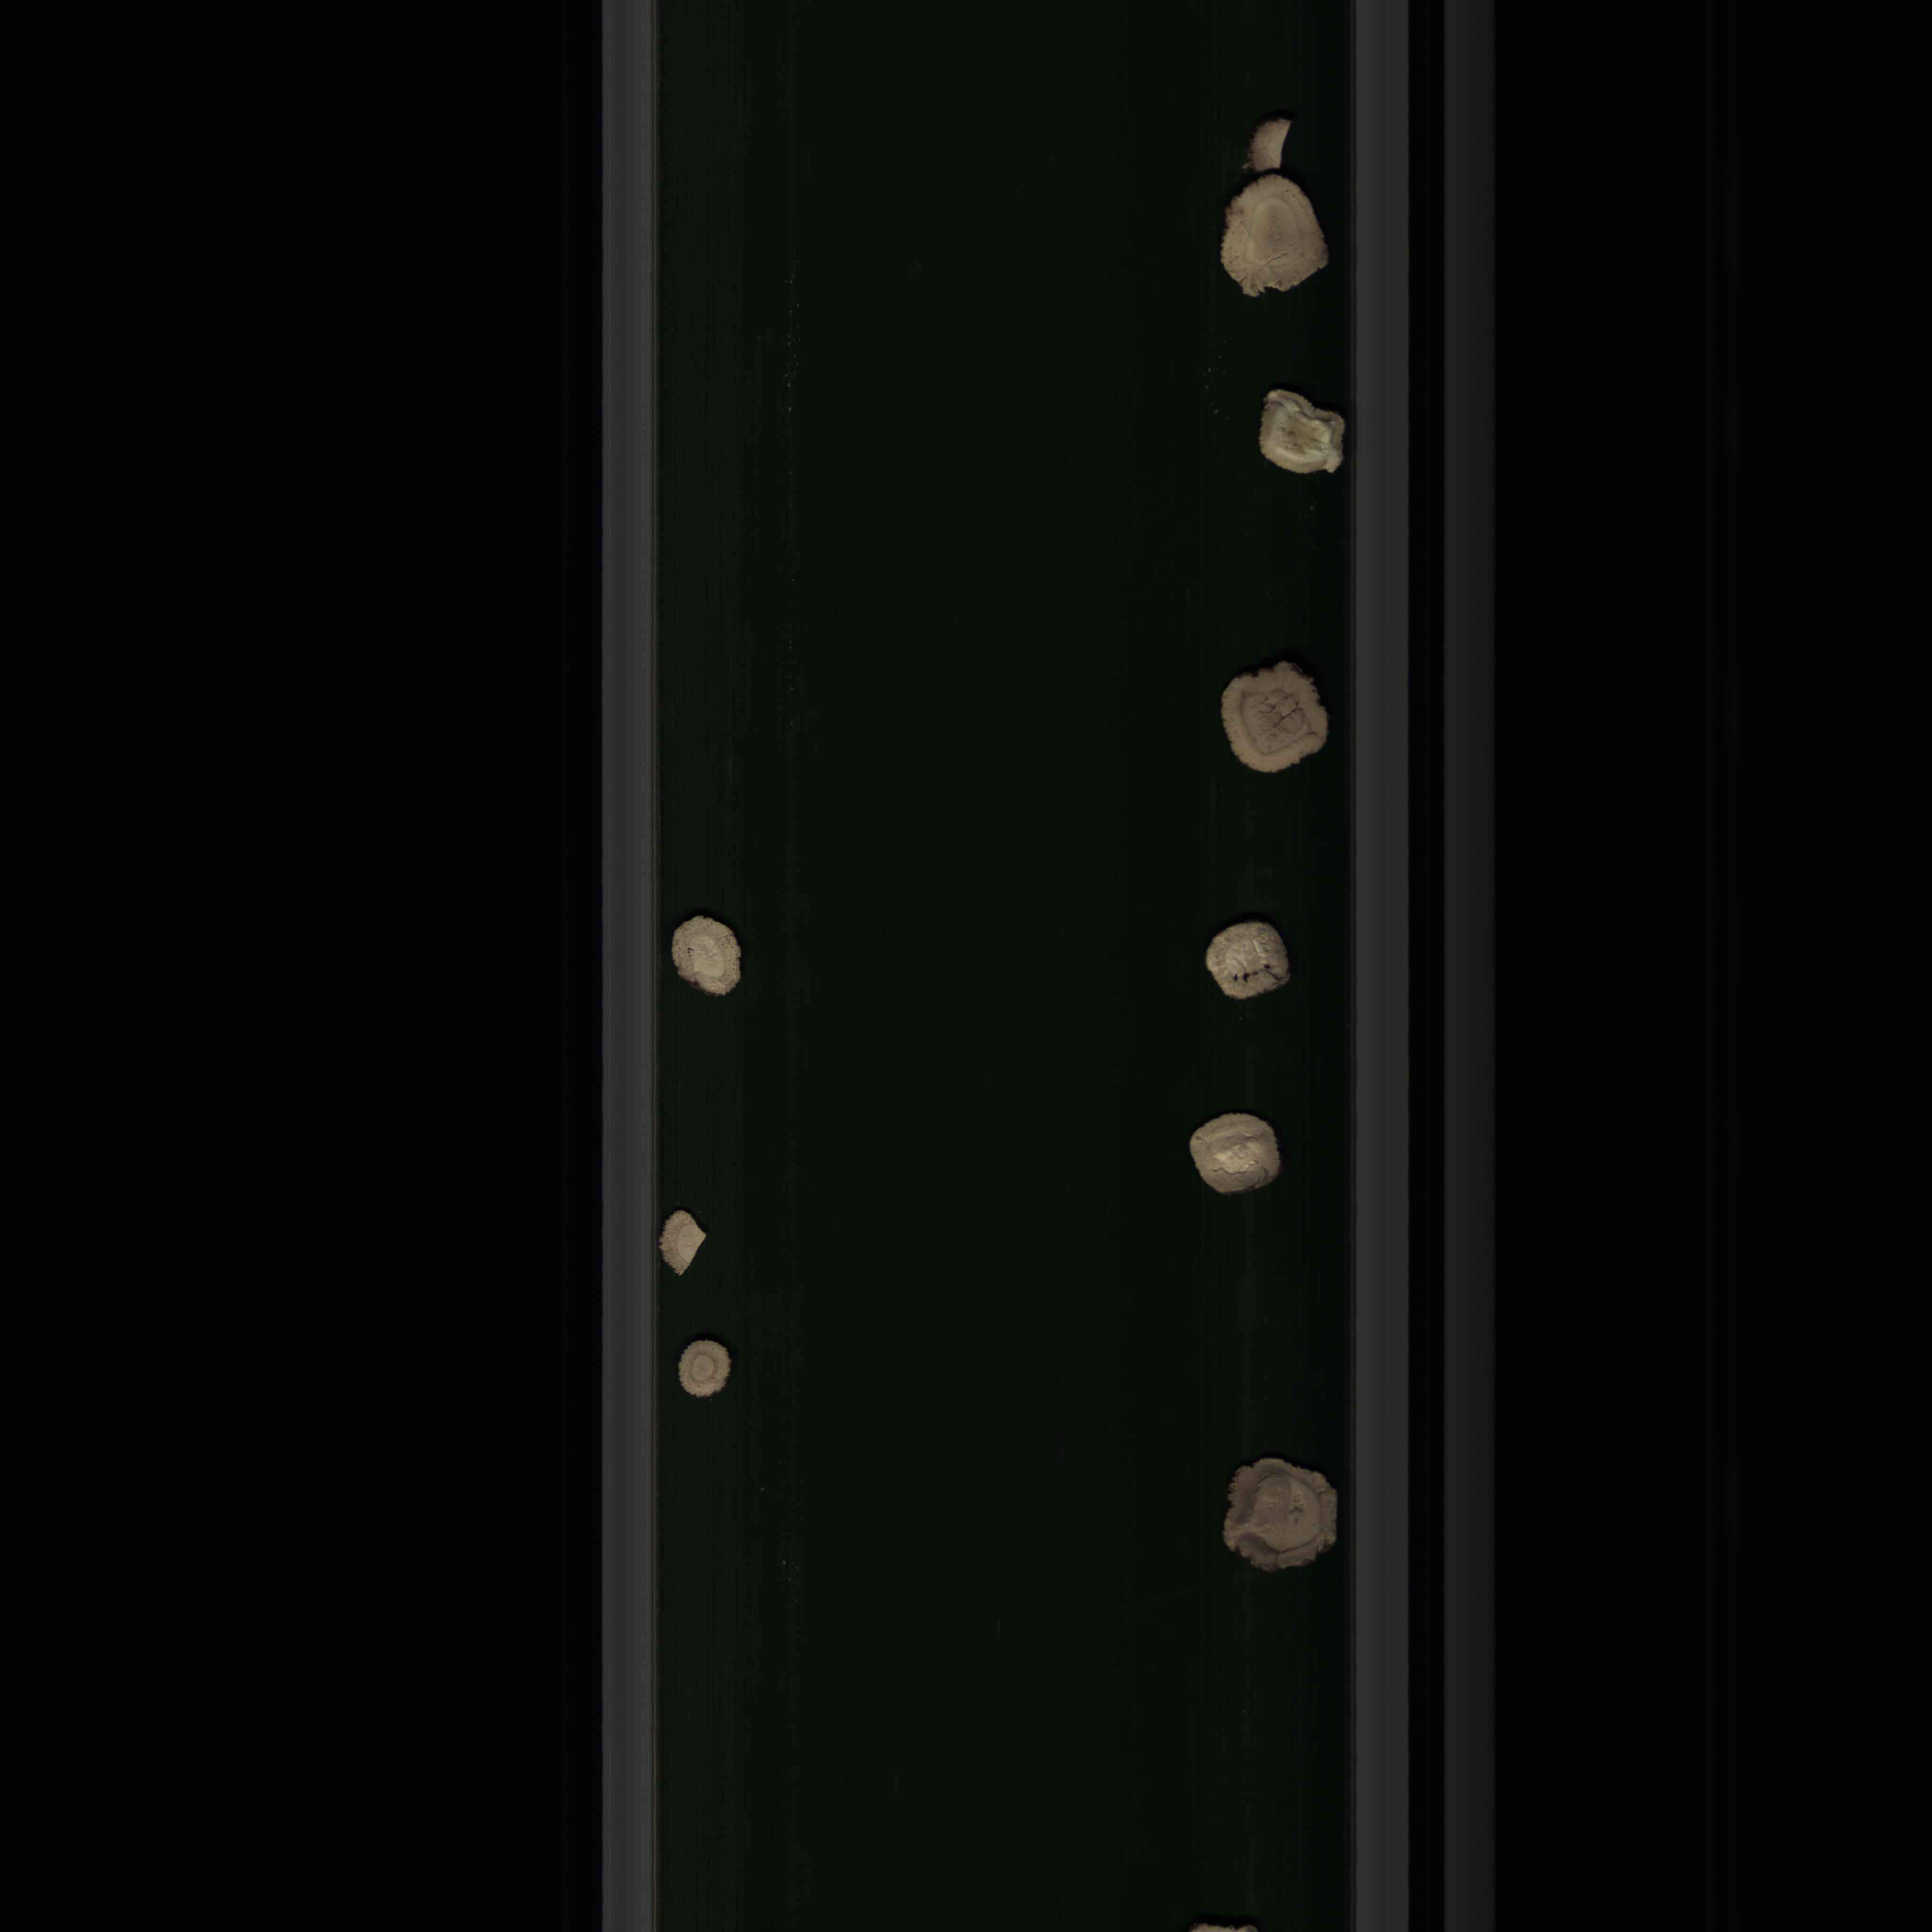debris: (651, 1205, 718, 1284), (1242, 106, 1302, 173)
distortion: (1253, 384, 1353, 488)
hole: (1192, 922, 1311, 1005)
moldy: (1205, 1453, 1345, 1580), (1208, 663, 1352, 784)
